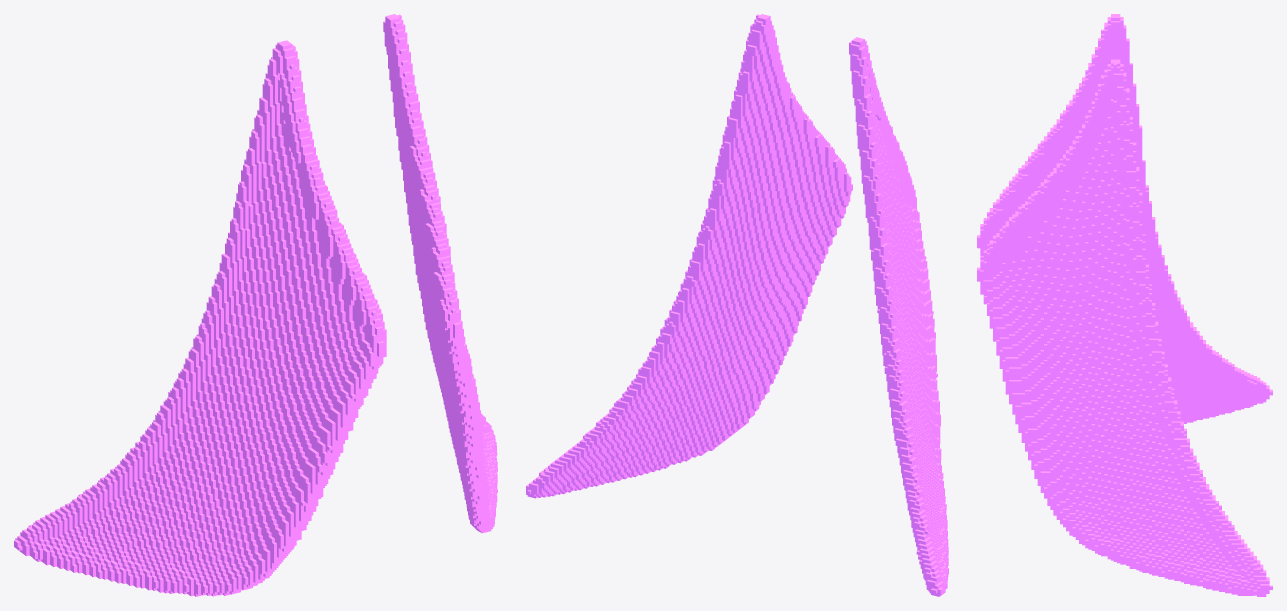
The model's file is purple.gltf.
3 views of the same model, side by side, from view 1: azimuth 30°, elevation 25°; view 2: azimuth 150°, elevation 25°; view 3: azimuth 270°, elevation 25° (orthographic). The views are drawn at different scales.
Visible parts, largest first — view 1: 翅膀.1; view 2: 翅膀.1; view 3: 翅膀.1.
Part boxes in pixels (x1,y1,x2,y2): 翅膀.1: (14, 14, 497, 596); 翅膀.1: (526, 14, 948, 596); 翅膀.1: (977, 14, 1272, 596).
Size of the model in its own units: 17.88 by 19.2 by 11.16.
